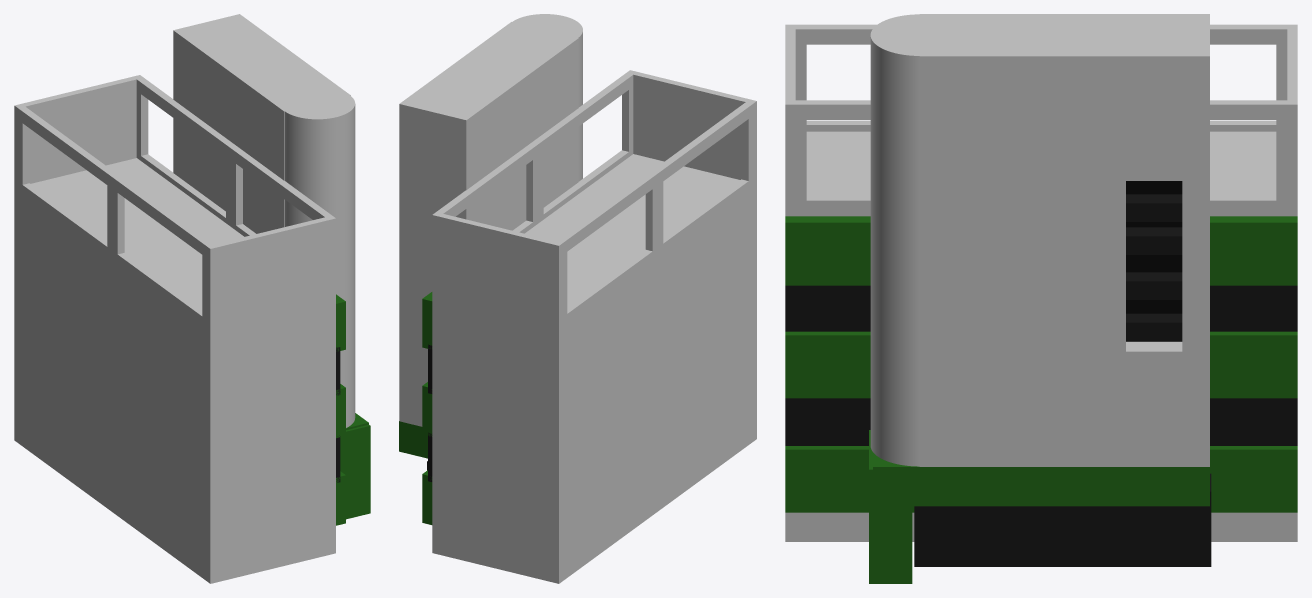
3 views of the same model, side by side, from view 1: azimuth 30°, elevation 25°; view 2: azimuth 150°, elevation 25°; view 3: azimuth 270°, elevation 25° (orthographic). The views are drawn at different scales.
Visible parts, largest first — view 1: Cube062; view 2: Cube062; view 3: Cube062.
Part boxes in pixels (x1=…): Cube062: x1=14, y1=14, x2=370, y2=583; Cube062: x1=399, y1=14, x2=756, y2=583; Cube062: x1=785, y1=14, x2=1297, y2=583.
Bounding box in the file's own units: 6.99 × 13.6 × 11.94.
